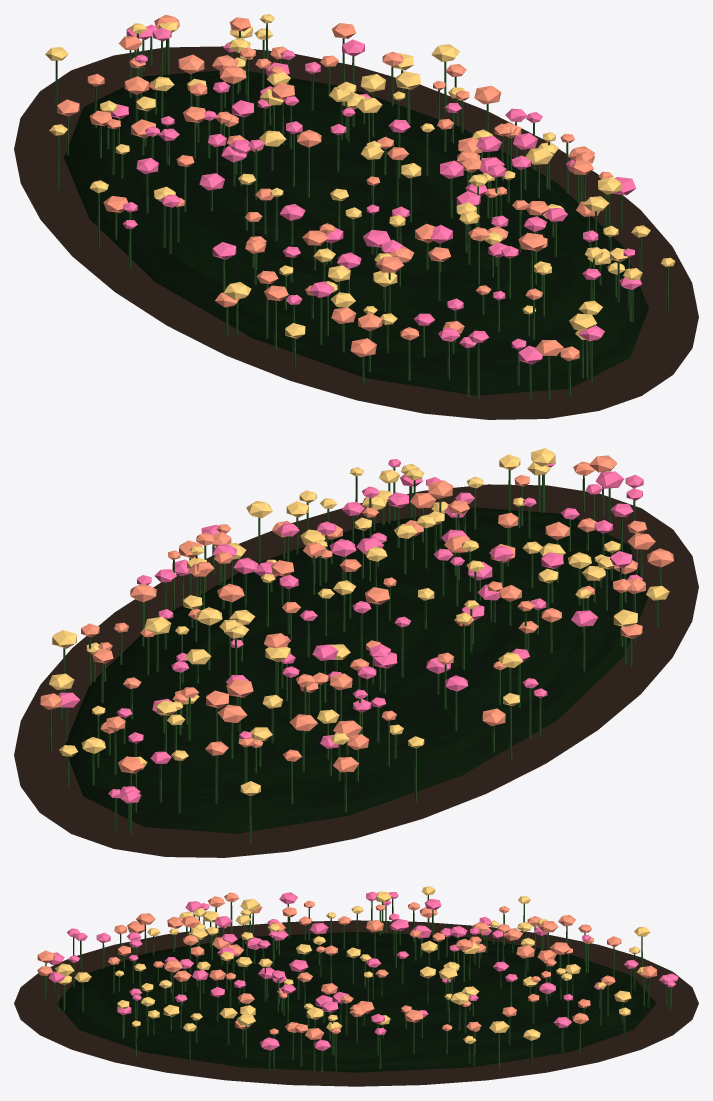
Rendered from flower-bed-8.glb.
The picture shows the model from 3 angles, top to bottom: view 1: azimuth 30°, elevation 25°; view 2: azimuth 150°, elevation 25°; view 3: azimuth 270°, elevation 25°; orthographic projection. The views are drawn at different scales.
Visible parts, largest first — view 1: flower-bed-8_MeshStandardMaterial (×4); view 2: flower-bed-8_MeshStandardMaterial (×4); view 3: flower-bed-8_MeshStandardMaterial (×4).
Part boxes in pixels (x1=…): flower-bed-8_MeshStandardMaterial (×4): x1=14, y1=14, x2=698, y2=419; flower-bed-8_MeshStandardMaterial (×4): x1=14, y1=448, x2=698, y2=857; flower-bed-8_MeshStandardMaterial (×4): x1=14, y1=886, x2=698, y2=1086.
Size of the model in its own units: 2.7 by 0.5636 by 4.7.
Materials: 4 (1 with a texture image).
